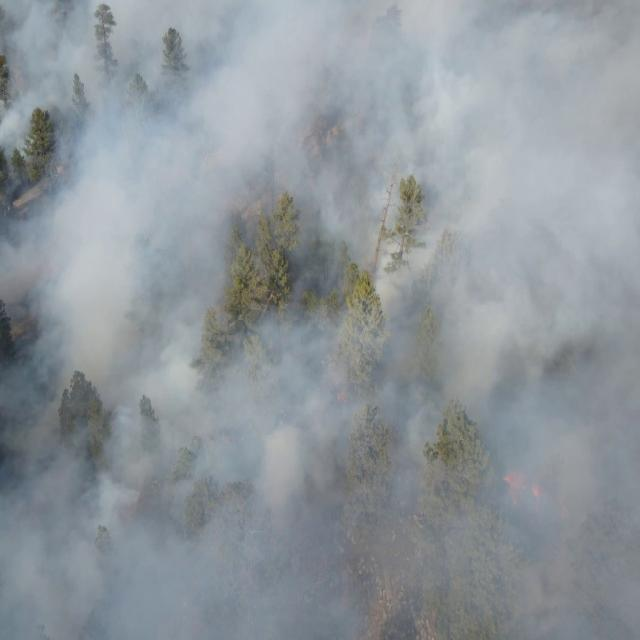fire: (504, 466, 526, 506), (334, 387, 348, 407), (529, 483, 542, 502)
smoke: (0, 0, 640, 640)
